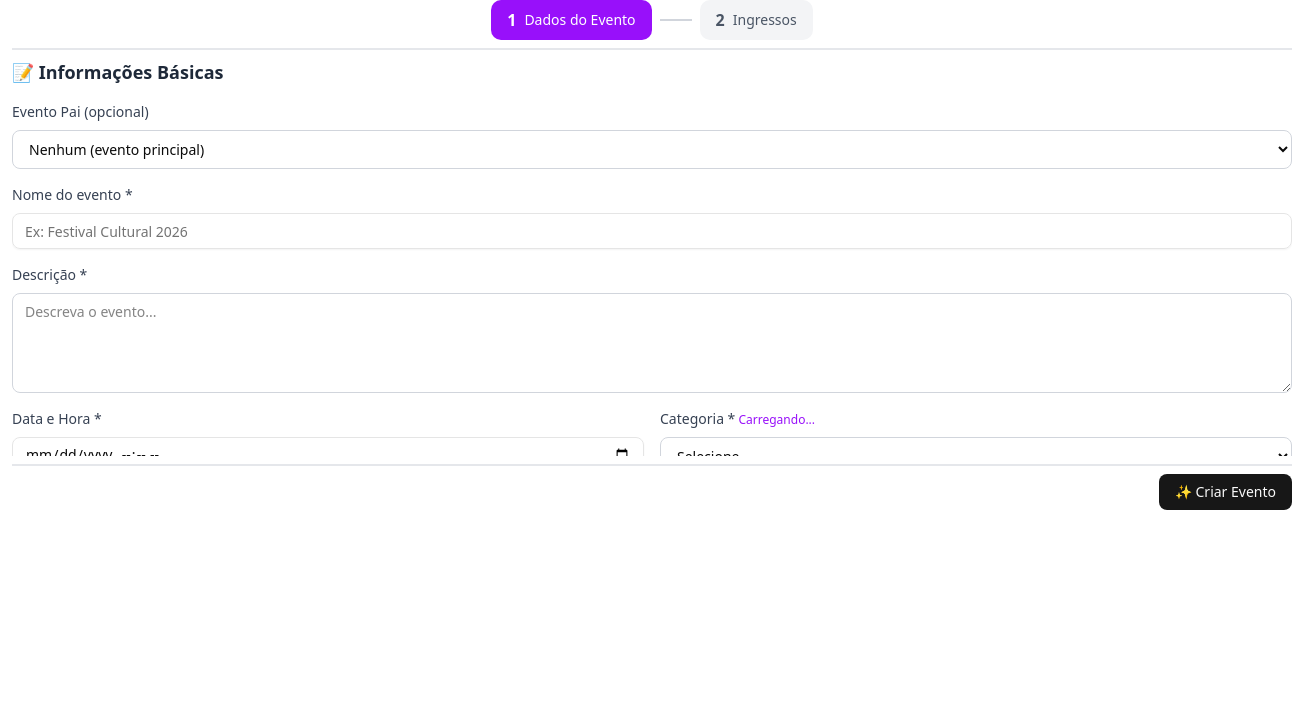
Test: EventFormDialog › desabilita campos durante carregamento
Expected: the field with placeholder "Ex: Festival Cultural 2026" is shown, [12,213,1292,249]
Click the button "✨ Criar Evento".
click(1225, 492)  # box [1159,474,1292,510]
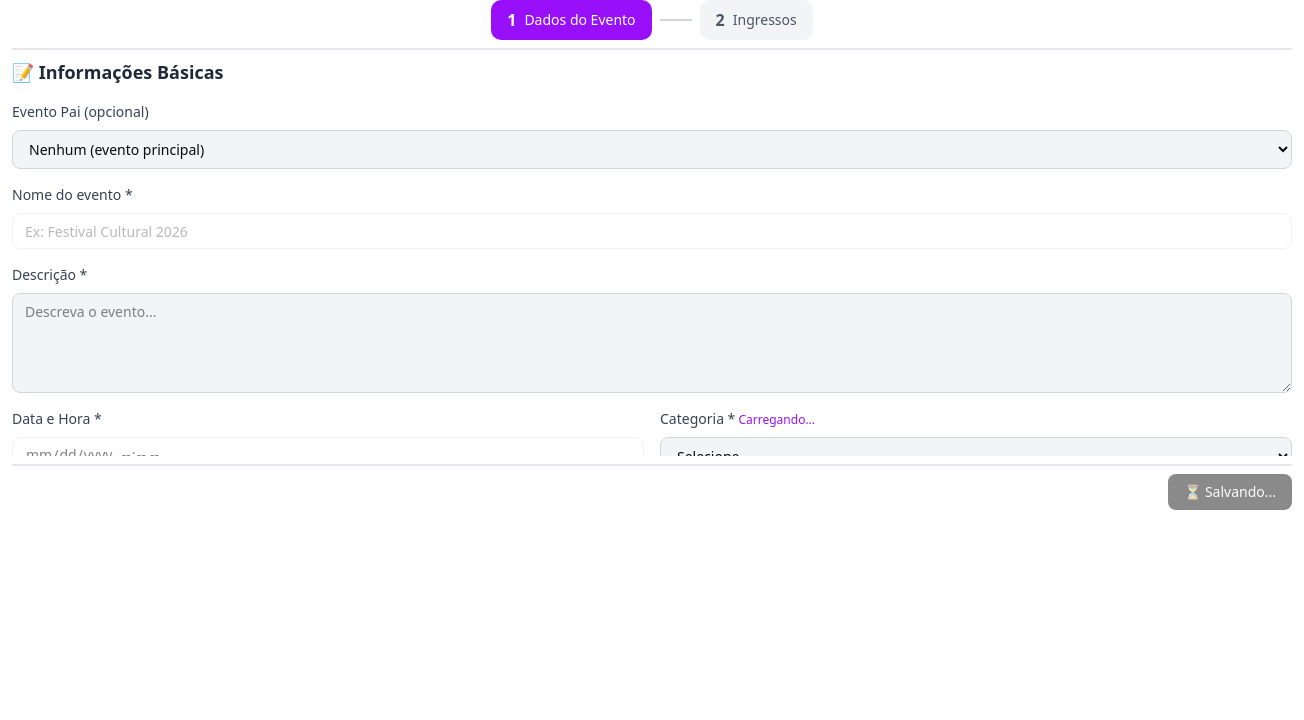
Now the button "⏳ Salvando..." is shown, box [1168,474,1292,510]
Now the field with placeholder "Ex: Festival Cultural 2026" is disabled, box [12,213,1292,249]
